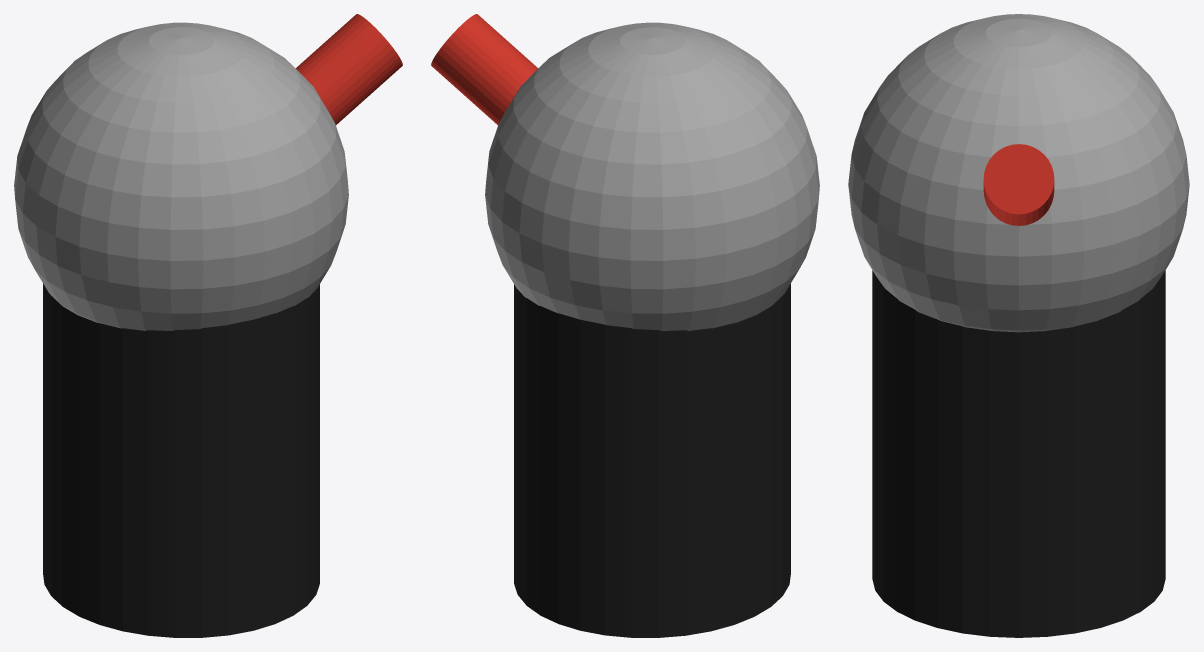
Rendered from baseballLauncher.fbx.
The picture shows the model from 3 angles, left to right: view 1: azimuth 30°, elevation 25°; view 2: azimuth 150°, elevation 25°; view 3: azimuth 270°, elevation 25°; orthographic projection.
Parts seen in each view (by area): view 1: Cylinder, Sphere, Cylinder.001; view 2: Cylinder, Sphere, Cylinder.001; view 3: Cylinder, Sphere, Cylinder.001.
Boxes of the visible parts, x1,y1,x2,y2 form: Cylinder: (43, 283, 319, 637); Sphere: (14, 22, 348, 330); Cylinder.001: (296, 14, 402, 124); Cylinder: (514, 283, 790, 637); Sphere: (485, 22, 819, 330); Cylinder.001: (431, 14, 537, 124); Cylinder: (872, 270, 1165, 637); Sphere: (848, 14, 1189, 332); Cylinder.001: (983, 144, 1054, 225).
Bounding box in the file's own units: 207 × 297 × 167.
